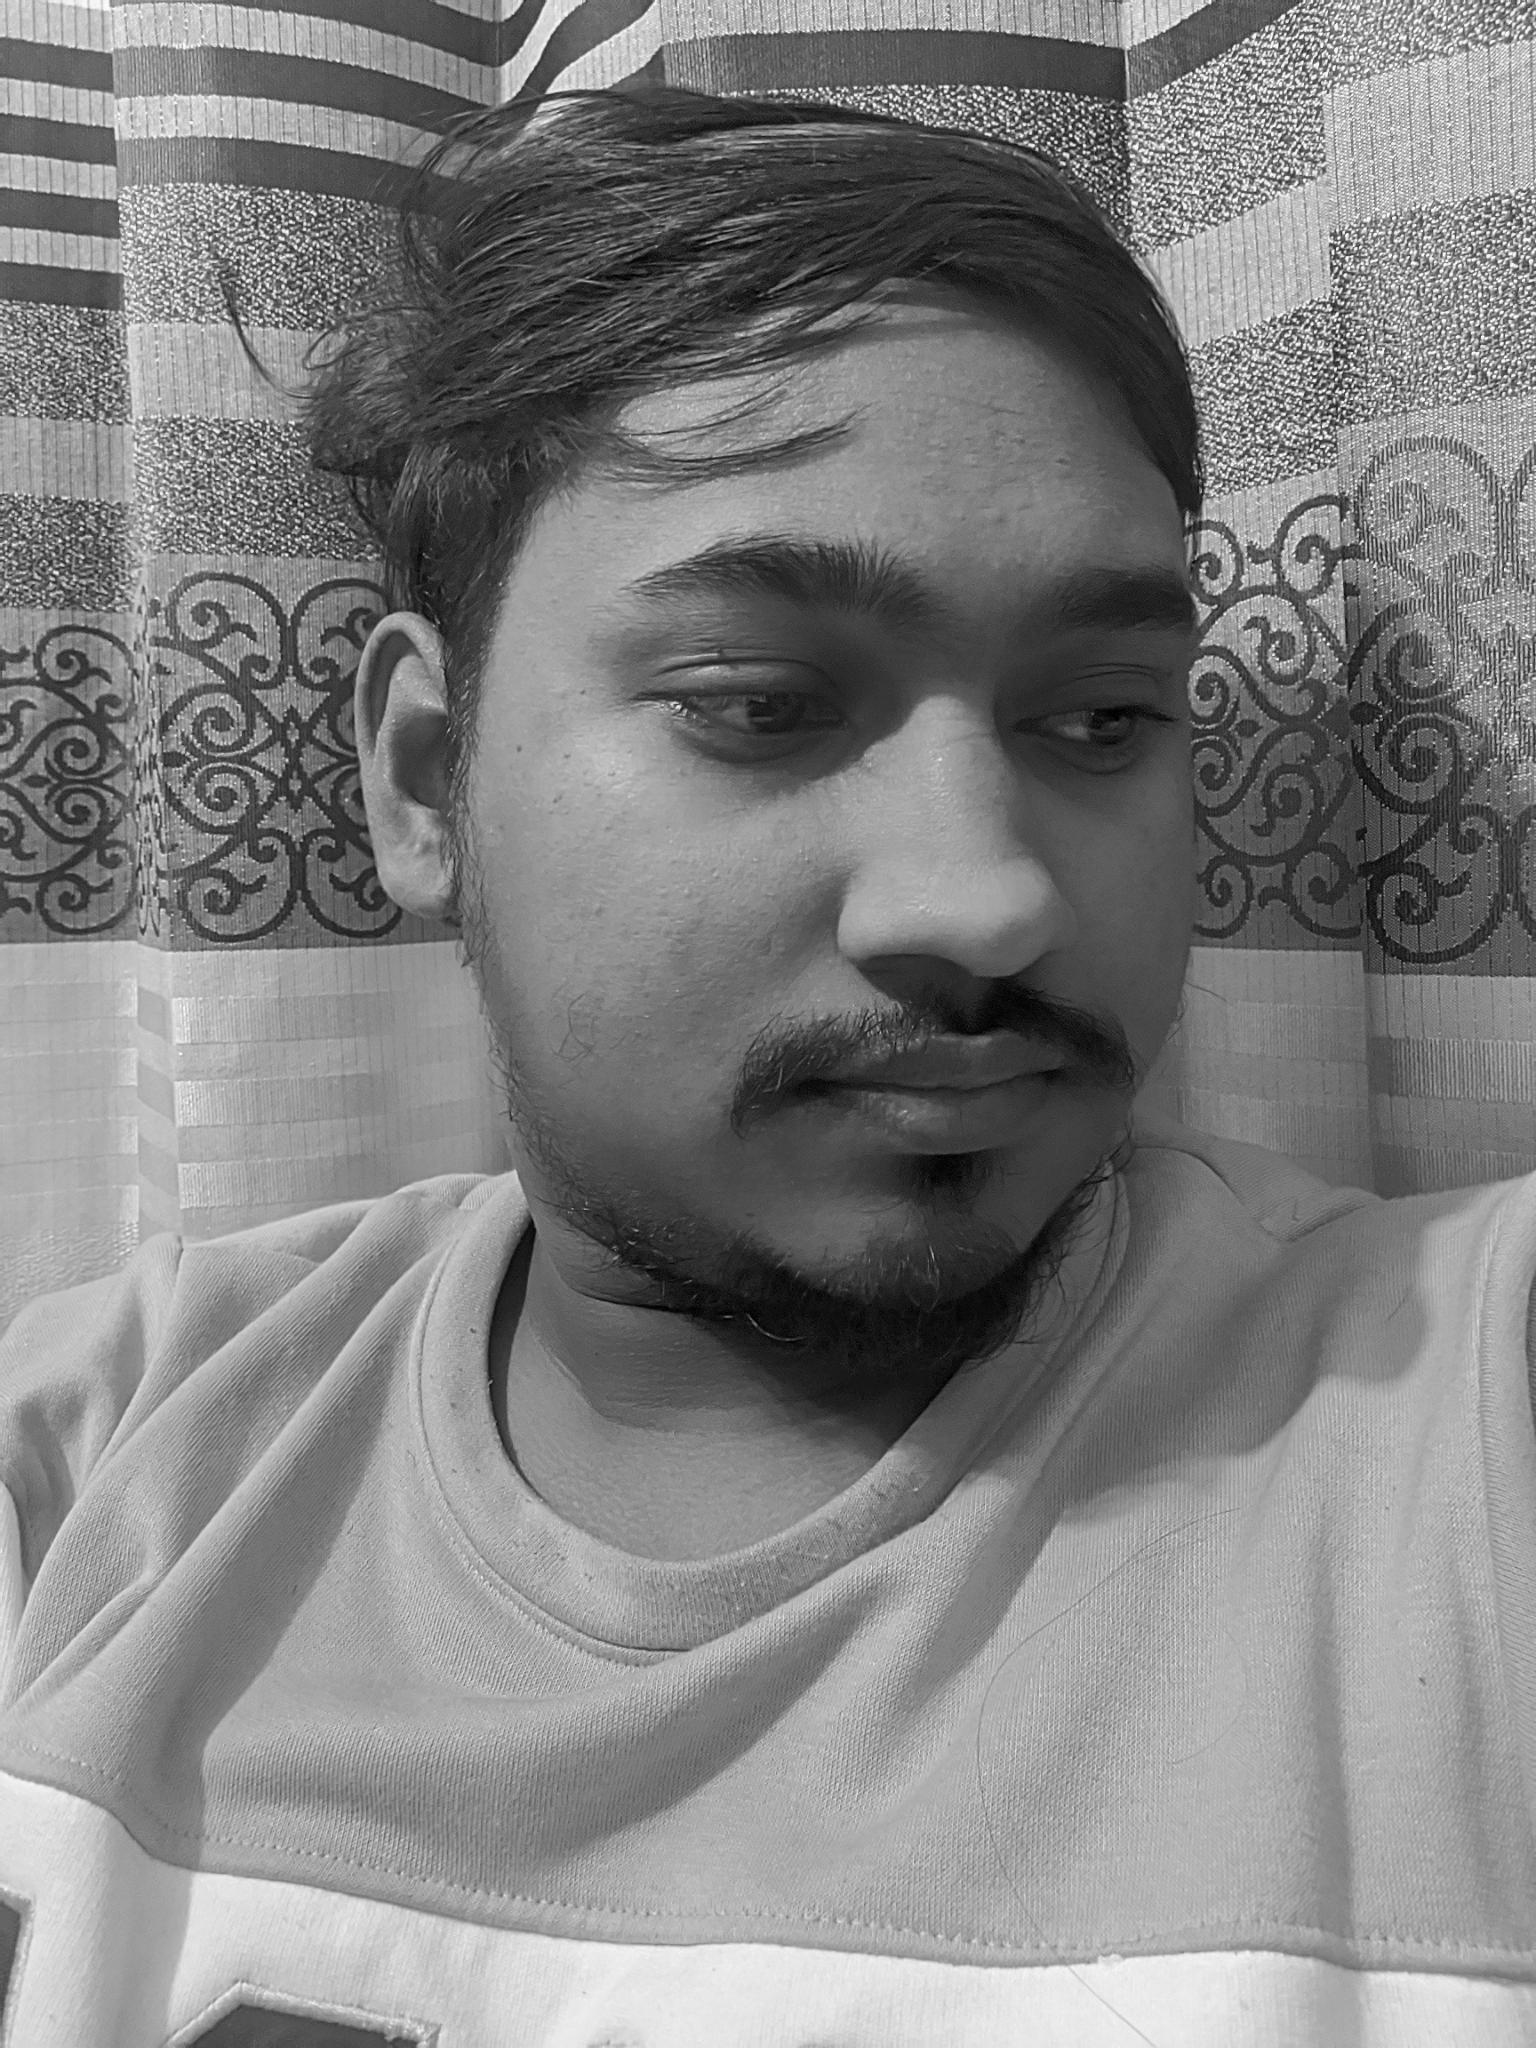Neutral: (592, 419, 1212, 1347)
